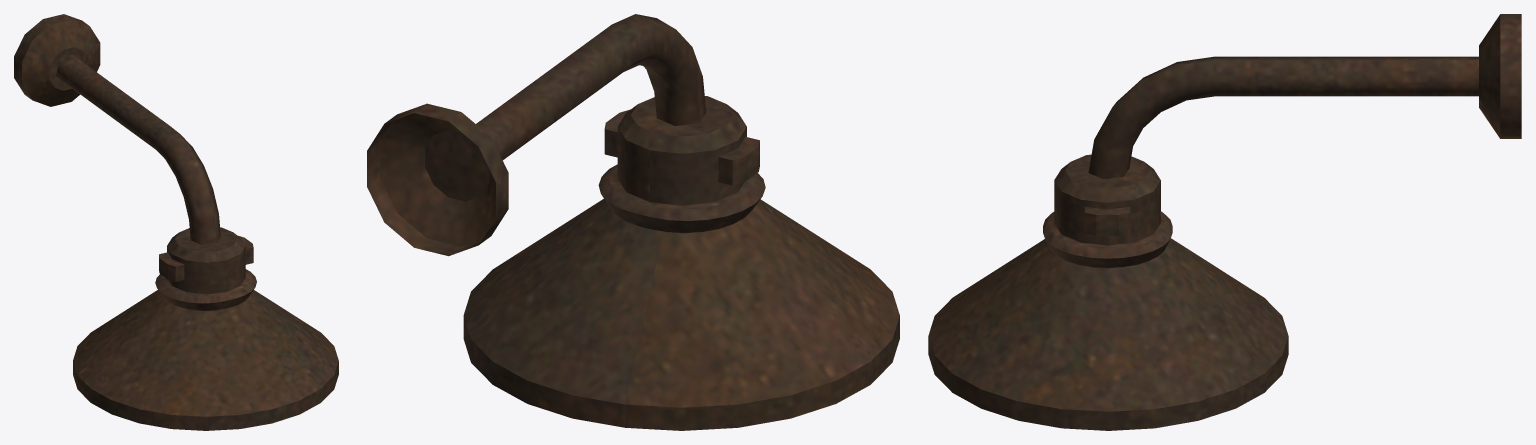
The model's file is lamp_mx_4_off.obj.
3 renders of one model, left to right at view 1: azimuth 30°, elevation 25°; view 2: azimuth 150°, elevation 25°; view 3: azimuth 270°, elevation 25°, orthographic. The views are drawn at different scales.
Visible parts, largest first — view 1: lamp_mx_4_off; view 2: lamp_mx_4_off; view 3: lamp_mx_4_off.
Part boxes in pixels (x1,y1,x2,y2): lamp_mx_4_off: (14, 14, 338, 430); lamp_mx_4_off: (367, 14, 899, 430); lamp_mx_4_off: (928, 14, 1521, 430).
Size of the model in its own units: 0.51 by 0.5559 by 0.84.
